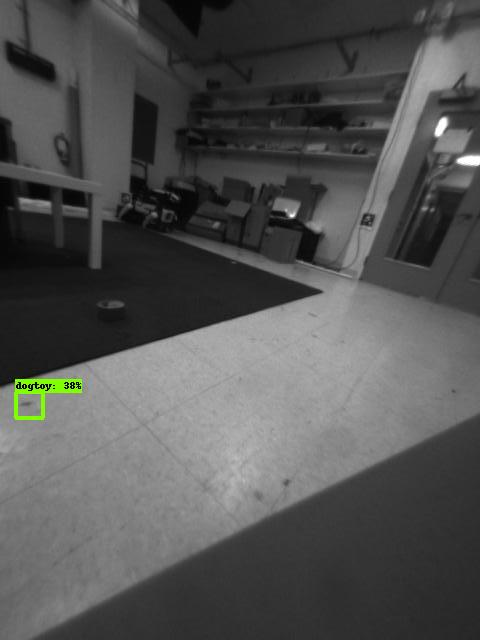dogtoy: (78, 289, 136, 325)
